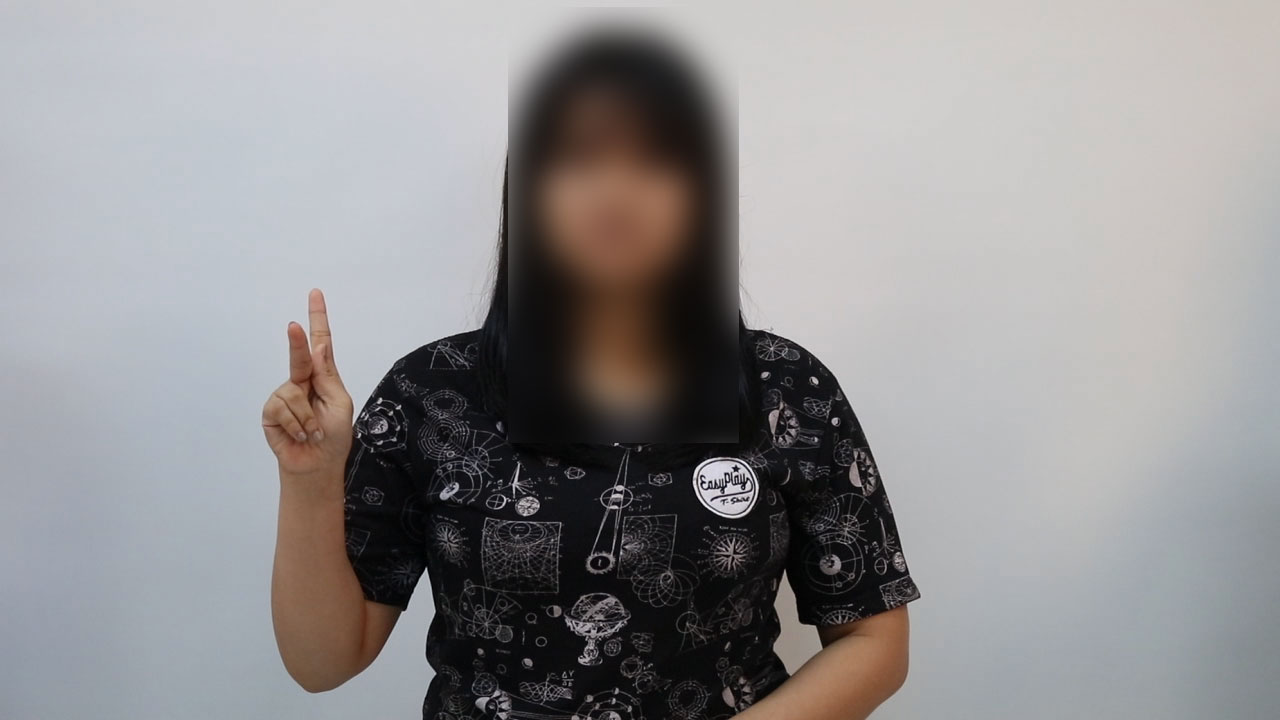ko: (215, 265, 413, 502)
